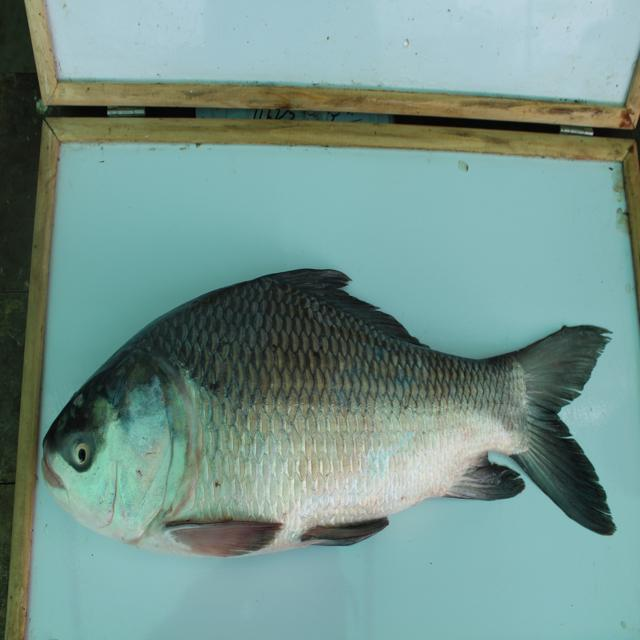Catla: (40, 265, 619, 596)
